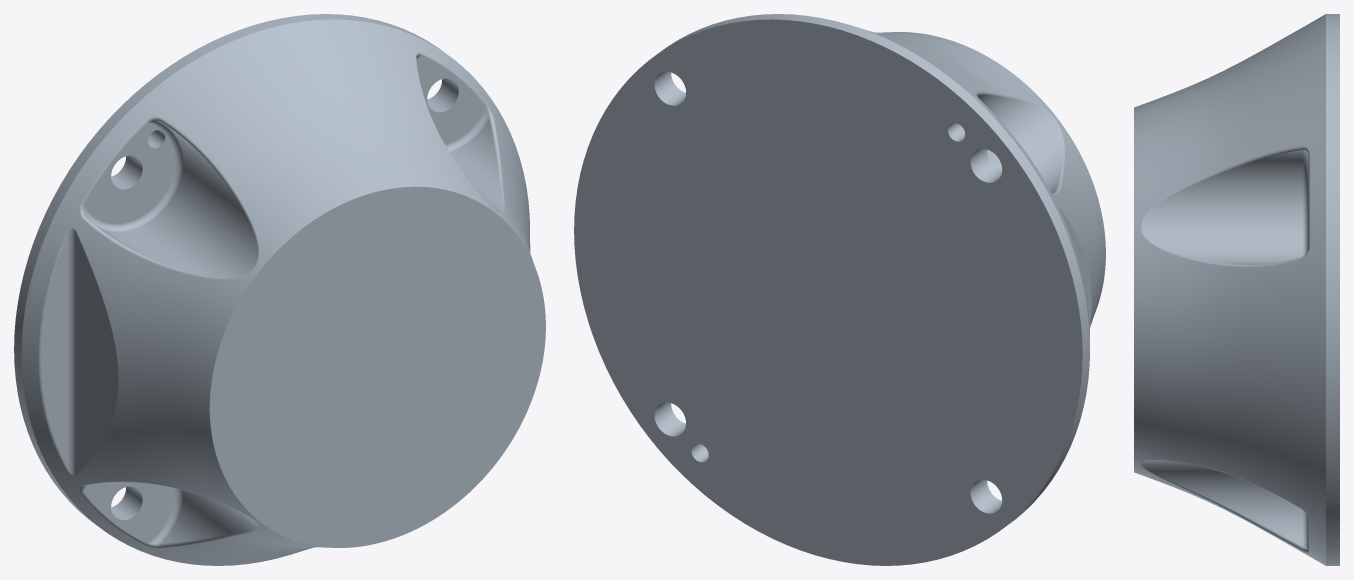
The model's file is tm5_base_old.obj.
The picture shows the model from 3 angles, left to right: view 1: azimuth 30°, elevation 25°; view 2: azimuth 150°, elevation 25°; view 3: azimuth 270°, elevation 25°; orthographic projection. The views are drawn at different scales.
Parts seen in each view (by area): view 1: 1; view 2: 1; view 3: 1.
Boxes of the visible parts, <box> form: 1: <box>14,14,545,565</box>; 1: <box>574,14,1105,565</box>; 1: <box>1134,14,1339,565</box>.
Bounding box in the file's own units: 0.177 × 0.177 × 0.066.
